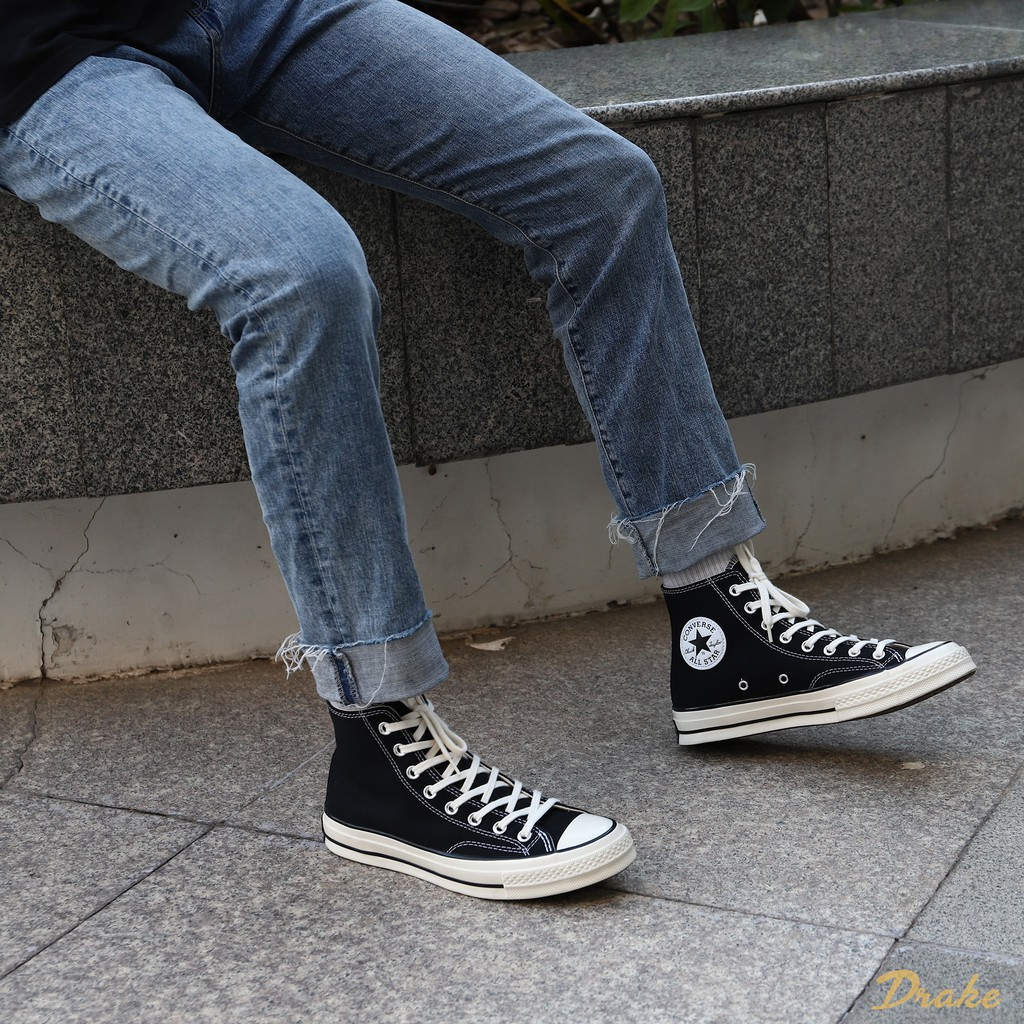sneakers: (318, 700, 636, 901), (658, 547, 977, 746)
